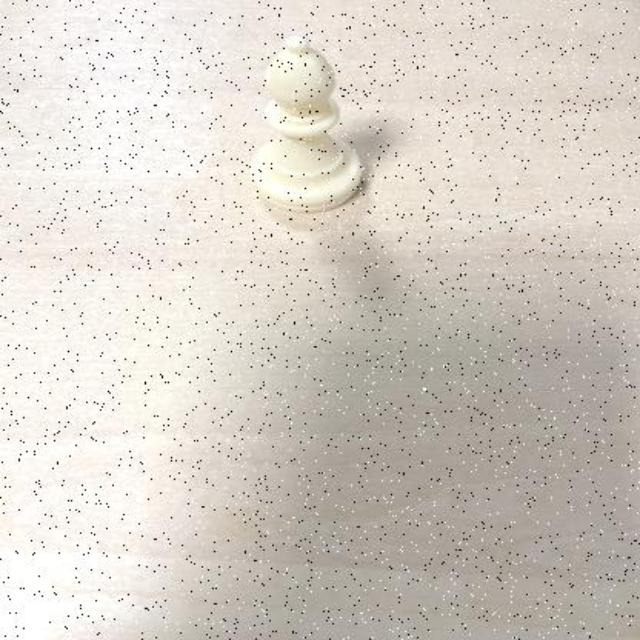white-bishop: (246, 33, 366, 216)
